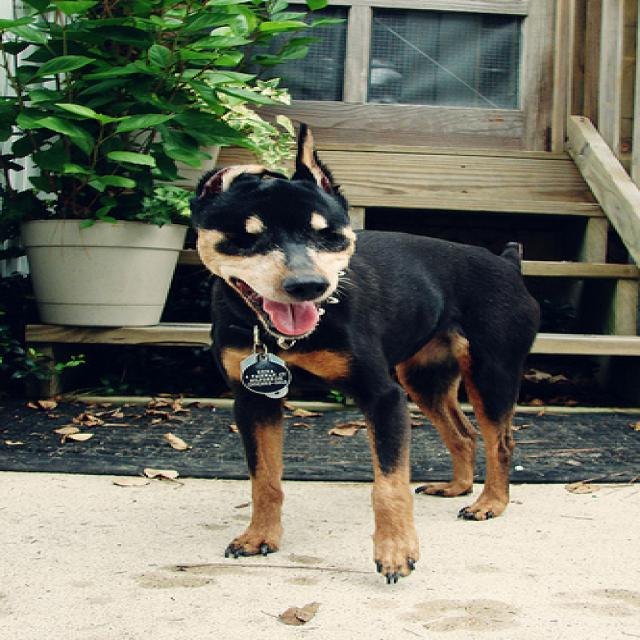dog-miniature_pinscher: (181, 116, 552, 590)
